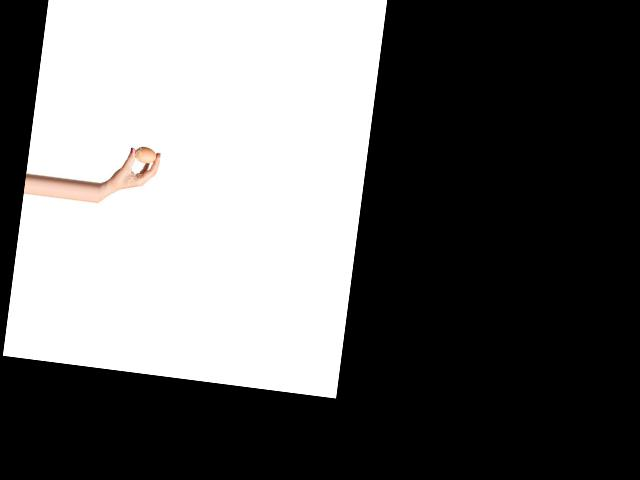egg: (133, 146, 156, 164)
